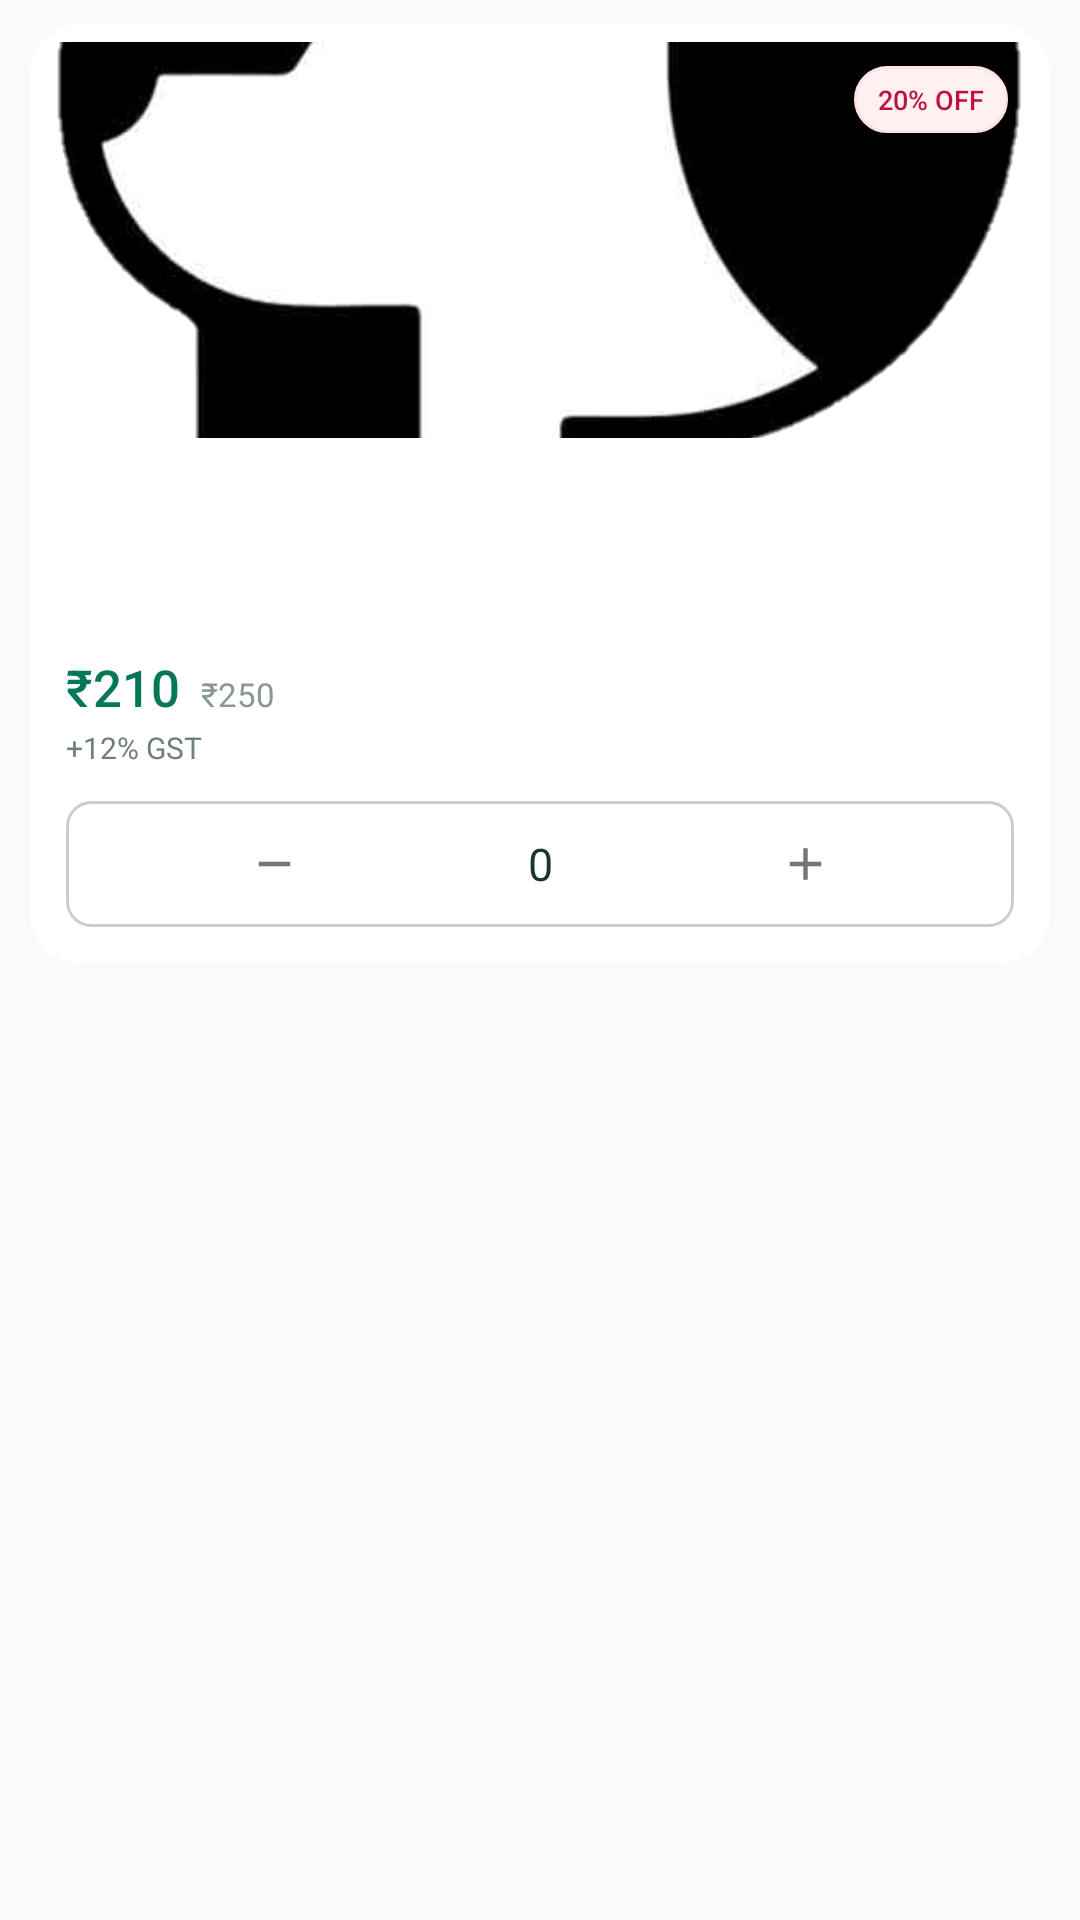

Screen size 1080 × 1920. Icon name, then its box in pixels as bbox=(x1, y1, x2, y2):
add: bbox=(789, 848, 822, 880)
remove: bbox=(258, 861, 291, 867)
